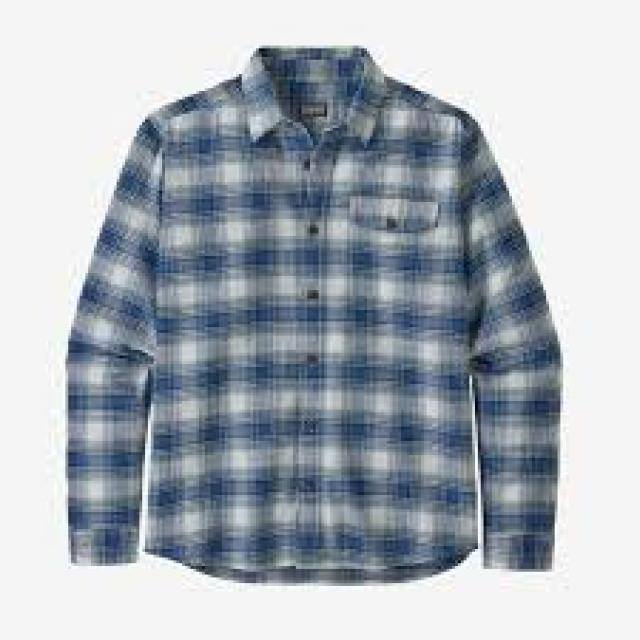plaid: (66, 39, 566, 581)
